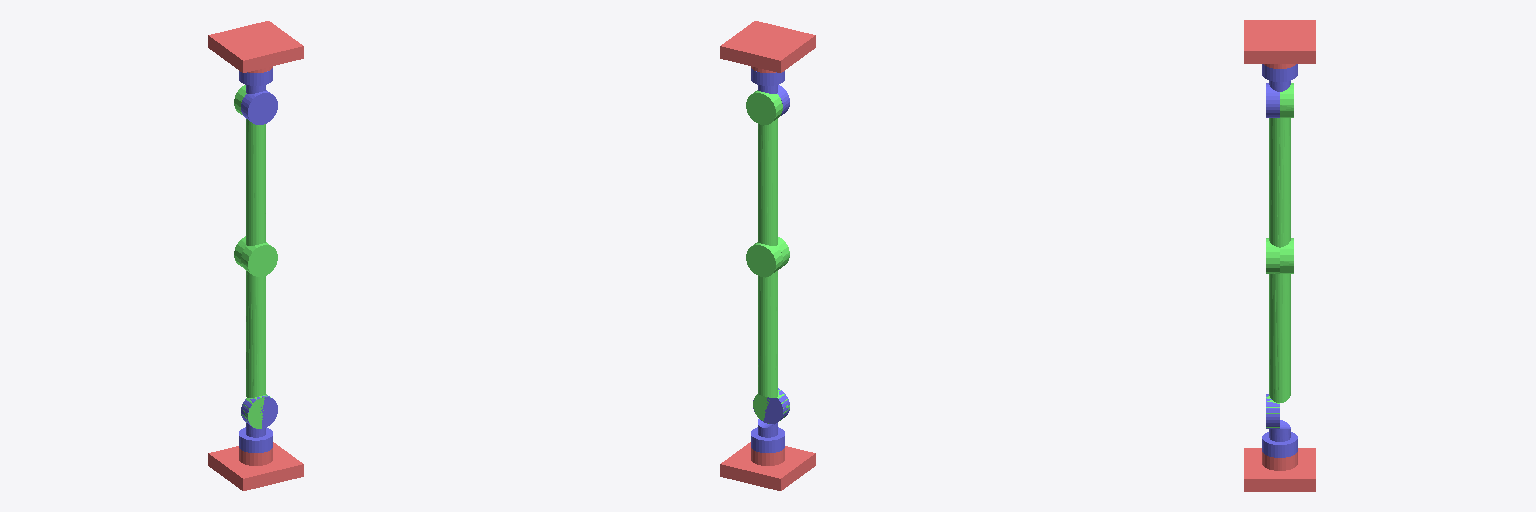
URDF robot description (simple_5dof_robot):
<?xml version="1.0" encoding="utf-8"?>
<!-- This URDF was automatically created by SolidWorks to URDF Exporter! Originally created by [author] ([email redacted]) 
     Commit Version: 1.6.0-4-g7f85cfe  Build Version: 1.6.7995.38578
     For more information, please see http://wiki.ros.org/sw_urdf_exporter -->
<robot
  name="simple_5dof_robot">
  <link
    name="Link_1">
    <inertial>
      <origin
        xyz="4.0039E-18 2.4167E-19 0.013282"
        rpy="0 0 0" />
      <mass
        value="0.24406" />
      <inertia
        ixx="0.00019779"
        ixy="5.4751E-20"
        ixz="6.3796E-21"
        iyy="0.00019779"
        iyz="5.4749E-22"
        izz="0.00035252" />
    </inertial>
    <visual>
      <origin
        xyz="0 0 0"
        rpy="0 0 0" />
      <geometry>
        <mesh
          filename="package://mdl_description/meshes/Link_1.dae" />
      </geometry>
      <material
        name="">
        <color
          rgba="1 0.50196 0.50196 1" />
      </material>
    </visual>
    <collision>
      <origin
        xyz="0 0 0"
        rpy="0 0 0" />
      <geometry>
        <mesh
          filename="package://mdl_description/meshes/Link_1.dae" />
      </geometry>
    </collision>
  </link>
  <link
    name="Link_2">
    <inertial>
      <origin
        xyz="2.1865E-09 -0.0043644 0.074128"
        rpy="0 0 0" />
      <mass
        value="0.091778" />
      <inertia
        ixx="6.8897E-05"
        ixy="5.2841E-12"
        ixz="-1.6543E-12"
        iyy="7.1629E-05"
        iyz="1.0363E-05"
        izz="2.3714E-05" />
    </inertial>
    <visual>
      <origin
        xyz="0 0 0"
        rpy="0 0 0" />
      <geometry>
        <mesh
          filename="package://mdl_description/meshes/Link_2.dae" />
      </geometry>
      <material
        name="">
        <color
          rgba="0.50196 0.50196 1 1" />
      </material>
    </visual>
    <collision>
      <origin
        xyz="0 0 0"
        rpy="0 0 0" />
      <geometry>
        <mesh
          filename="package://mdl_description/meshes/Link_2.dae" />
      </geometry>
    </collision>
  </link>
  <joint
    name="Joint_1"
    type="continuous">
    <origin
      xyz="0 0 0"
      rpy="0 0 0" />
    <parent
      link="Link_1" />
    <child
      link="Link_2" />
    <axis
      xyz="0 0 1" />
  </joint>
  <link
    name="Link_3">
    <inertial>
      <origin
        xyz="0.12 -2.6837E-08 0.0036605"
        rpy="0 0 0" />
      <mass
        value="0.21881" />
      <inertia
        ixx="3.5934E-05"
        ixy="3.0624E-10"
        ixz="-4.9473E-09"
        iyy="0.0016096"
        iyz="3.1981E-10"
        izz="0.0016144" />
    </inertial>
    <visual>
      <origin
        xyz="0 0 0"
        rpy="0 0 0" />
      <geometry>
        <mesh
          filename="package://mdl_description/meshes/Link_3.dae" />
      </geometry>
      <material
        name="">
        <color
          rgba="0.50196 1 0.50196 1" />
      </material>
    </visual>
    <collision>
      <origin
        xyz="0 0 0"
        rpy="0 0 0" />
      <geometry>
        <mesh
          filename="package://mdl_description/meshes/Link_3.dae" />
      </geometry>
    </collision>
  </link>
  <joint
    name="Joint_2"
    type="continuous">
    <origin
      xyz="0 0 0.1"
      rpy="1.5708 -1.5708 0" />
    <parent
      link="Link_2" />
    <child
      link="Link_3" />
    <axis
      xyz="0 0 1" />
  </joint>
  <link
    name="Link_4">
    <inertial>
      <origin
        xyz="0.12 2.6837E-08 -0.0036605"
        rpy="0 0 0" />
      <mass
        value="0.21881" />
      <inertia
        ixx="3.5934E-05"
        ixy="-3.0624E-10"
        ixz="4.9473E-09"
        iyy="0.0016096"
        iyz="3.1981E-10"
        izz="0.0016144" />
    </inertial>
    <visual>
      <origin
        xyz="0 0 0"
        rpy="0 0 0" />
      <geometry>
        <mesh
          filename="package://mdl_description/meshes/Link_4.dae" />
      </geometry>
      <material
        name="">
        <color
          rgba="0.50196 1 0.50196 1" />
      </material>
    </visual>
    <collision>
      <origin
        xyz="0 0 0"
        rpy="0 0 0" />
      <geometry>
        <mesh
          filename="package://mdl_description/meshes/Link_4.dae" />
      </geometry>
    </collision>
  </link>
  <joint
    name="Joint_3"
    type="continuous">
    <origin
      xyz="0.24 0 0"
      rpy="0 0 0" />
    <parent
      link="Link_3" />
    <child
      link="Link_4" />
    <axis
      xyz="0 0 -1" />
  </joint>
  <link
    name="Link_5">
    <inertial>
      <origin
        xyz="0.025872 2.1865E-09 0.0043644"
        rpy="0 0 0" />
      <mass
        value="0.091778" />
      <inertia
        ixx="2.3714E-05"
        ixy="1.6543E-12"
        ixz="1.0363E-05"
        iyy="6.8897E-05"
        iyz="-5.2841E-12"
        izz="7.1629E-05" />
    </inertial>
    <visual>
      <origin
        xyz="0 0 0"
        rpy="0 0 0" />
      <geometry>
        <mesh
          filename="package://mdl_description/meshes/Link_5.dae" />
      </geometry>
      <material
        name="">
        <color
          rgba="0.50196 0.50196 1 1" />
      </material>
    </visual>
    <collision>
      <origin
        xyz="0 0 0"
        rpy="0 0 0" />
      <geometry>
        <mesh
          filename="package://mdl_description/meshes/Link_5.dae" />
      </geometry>
    </collision>
  </link>
  <joint
    name="Joint_4"
    type="continuous">
    <origin
      xyz="0.24 0 0"
      rpy="0 0 0" />
    <parent
      link="Link_4" />
    <child
      link="Link_5" />
    <axis
      xyz="0 0 -1" />
  </joint>
  <link
    name="Link_6">
    <inertial>
      <origin
        xyz="-3.7902E-18 -7.3614E-19 -0.013282"
        rpy="0 0 0" />
      <mass
        value="0.24406" />
      <inertia
        ixx="0.00019779"
        ixy="-6.0525E-20"
        ixz="3.6581E-21"
        iyy="0.00019779"
        iyz="5.7166E-22"
        izz="0.00035252" />
    </inertial>
    <visual>
      <origin
        xyz="0 0 0"
        rpy="0 0 0" />
      <geometry>
        <mesh
          filename="package://mdl_description/meshes/Link_6.dae" />
      </geometry>
      <material
        name="">
        <color
          rgba="1 0.50196 0.50196 1" />
      </material>
    </visual>
    <collision>
      <origin
        xyz="0 0 0"
        rpy="0 0 0" />
      <geometry>
        <mesh
          filename="package://mdl_description/meshes/Link_6.dae" />
      </geometry>
    </collision>
  </link>
  <joint
    name="Joint_5"
    type="continuous">
    <origin
      xyz="0.1 0 0"
      rpy="1.5708 0 1.5708" />
    <parent
      link="Link_5" />
    <child
      link="Link_6" />
    <axis
      xyz="0 0 -1" />
  </joint>
</robot>

--- What the picture shows (computed from the rendered views, not written in the file) ---
Views: 3 orthographic renders of the robot side by side, from view 1: azimuth 30°, elevation 25°; view 2: azimuth 150°, elevation 25°; view 3: azimuth 270°, elevation 25°.
Robot: simple_5dof_robot — 6 links, 5 joints (5 continuous); root link Link_1; default pose: all joints at 0.
Visible links, largest first — view 1: Link_3, Link_6, Link_1, Link_4, Link_5, Link_2; view 2: Link_4, Link_6, Link_3, Link_1, Link_2, Link_5; view 3: Link_4, Link_6, Link_3, Link_1, Link_2, Link_5.
Boxes of the visible links, x1,y1,x2,y2 form: Link_3: (241, 242, 277, 428); Link_6: (208, 21, 303, 72); Link_1: (208, 442, 303, 490); Link_4: (234, 85, 265, 266); Link_5: (239, 68, 277, 124); Link_2: (239, 395, 277, 452); Link_4: (746, 90, 782, 276); Link_6: (720, 21, 815, 72); Link_3: (753, 237, 789, 423); Link_1: (720, 442, 815, 490); Link_2: (751, 388, 789, 452); Link_5: (751, 68, 789, 115); Link_4: (1269, 83, 1293, 273); Link_6: (1244, 20, 1315, 68); Link_3: (1266, 238, 1290, 427); Link_1: (1244, 448, 1315, 491); Link_2: (1262, 394, 1297, 457); Link_5: (1262, 64, 1297, 117).
Bounding box of the posed robot: 0.1 × 0.1 × 0.68 m (x, y, z).
6 mesh visuals loaded from 6 distinct referenced files (6 Collada DAE).